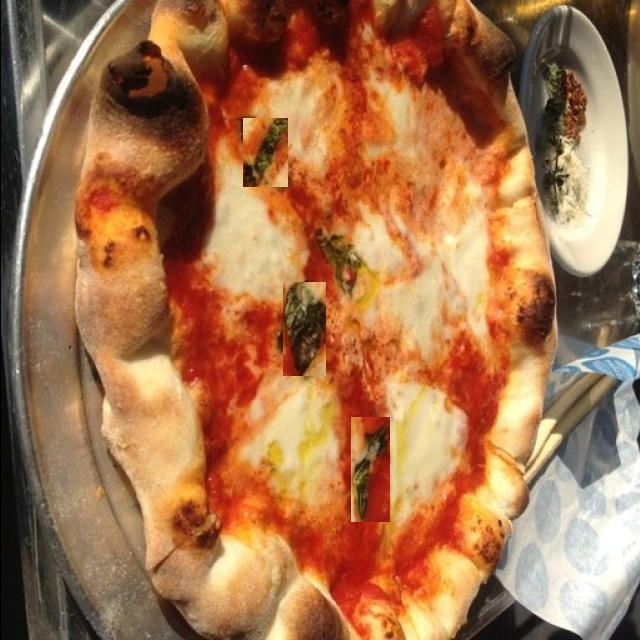basil: (280, 282, 324, 376), (350, 417, 389, 522), (240, 118, 286, 187), (313, 232, 361, 298)
pizza: (75, 1, 556, 640)
